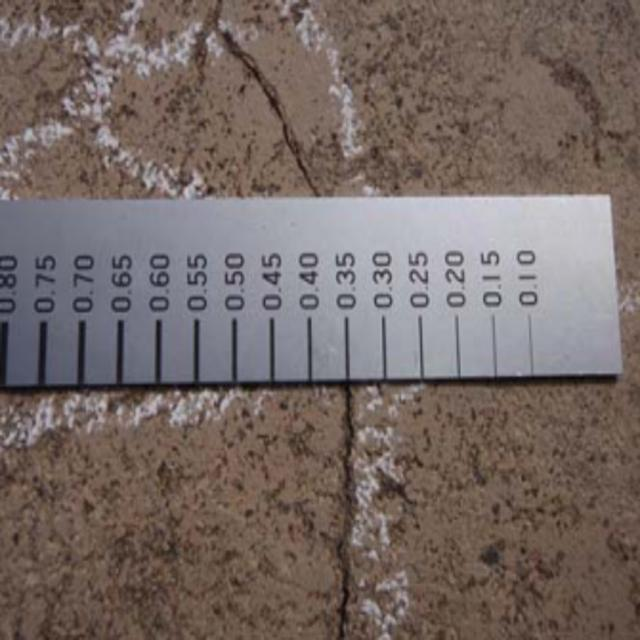crack: (201, 7, 330, 203), (296, 389, 377, 637)
